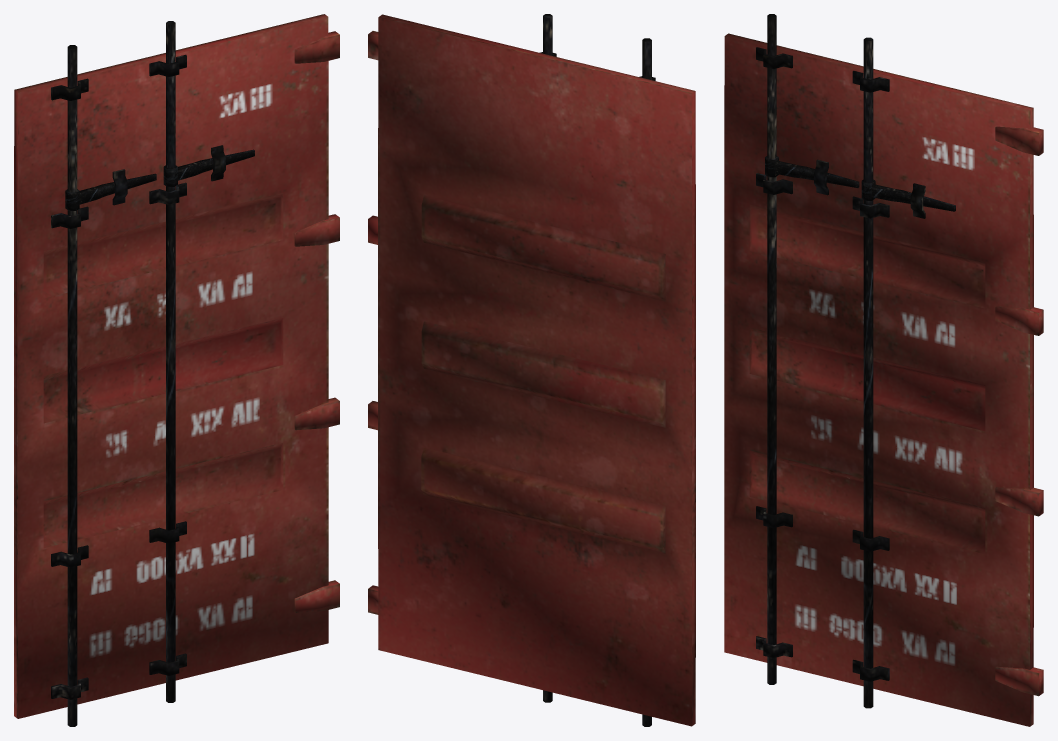
File: Door_A.fbx
3 views of the same model, side by side, from view 1: azimuth 30°, elevation 25°; view 2: azimuth 150°, elevation 25°; view 3: azimuth 330°, elevation 25° (orthographic). The views are drawn at different scales.
Visible parts, largest first — view 1: Door_A; view 2: Door_A; view 3: Door_A.
Part boxes in pixels (bbox=[...]): Door_A: bbox=[14, 14, 339, 726]; Door_A: bbox=[368, 14, 695, 726]; Door_A: bbox=[724, 14, 1043, 726].
Size of the model in its own units: 1.97 by 3.99 by 0.1447.
